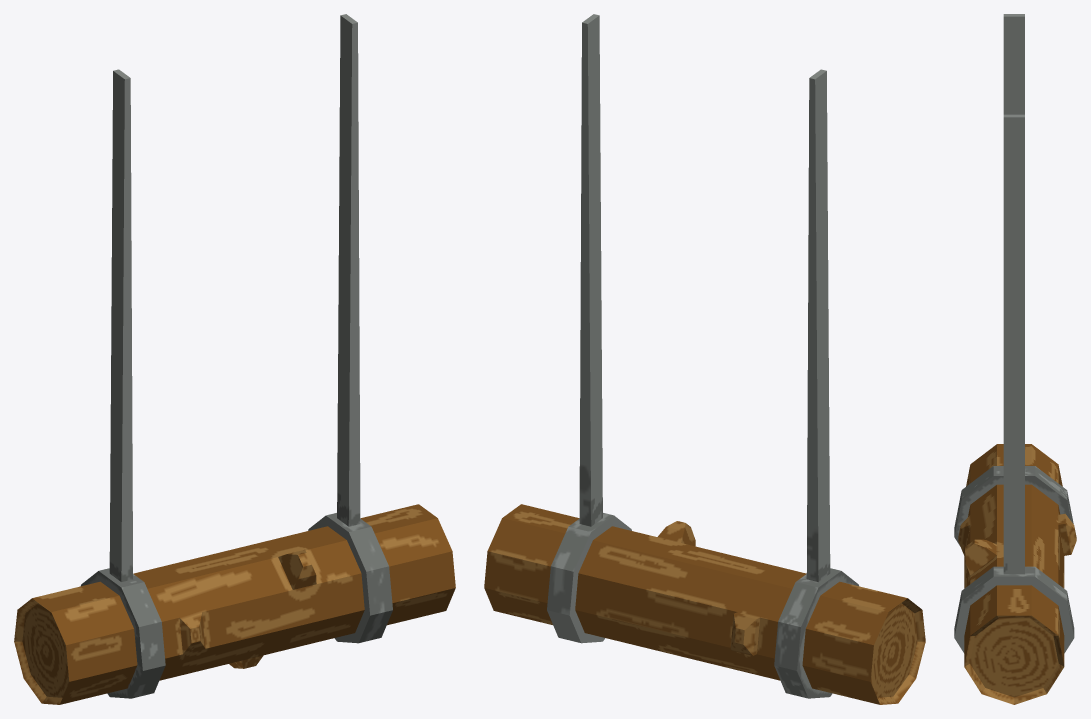
File: sallanan_kutuk.fbx
3 views of the same model, side by side, from view 1: azimuth 30°, elevation 25°; view 2: azimuth 150°, elevation 25°; view 3: azimuth 270°, elevation 25° (orthographic). The views are drawn at different scales.
Parts seen in each view (by area): view 1: sallanan kutuk; view 2: sallanan kutuk; view 3: sallanan kutuk.
Boxes of the visible parts, x1,y1,x2,y2 form: sallanan kutuk: [14, 14, 455, 704]; sallanan kutuk: [484, 14, 925, 704]; sallanan kutuk: [954, 14, 1076, 704].
Bounding box in the file's own units: 7.94 × 12.16 × 2.39.
Materials: 1 (1 with a texture image).
